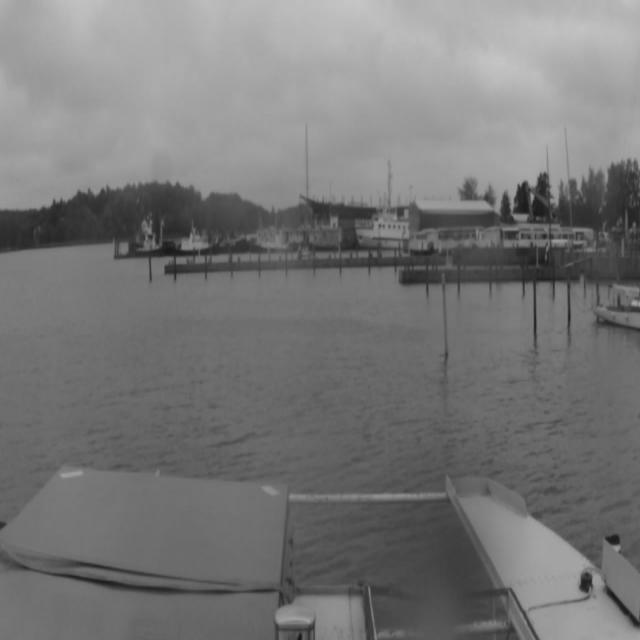buoy: (441, 271, 449, 361)
ship: (595, 281, 640, 337), (296, 126, 314, 260)
